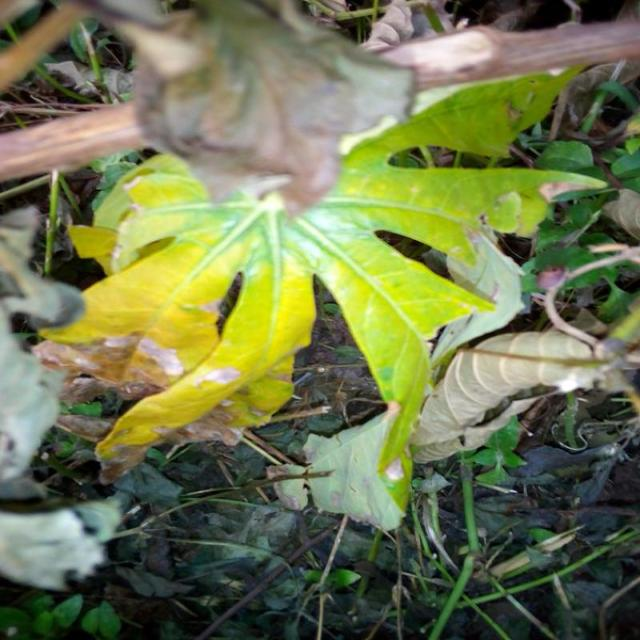cassava leaf: (36, 60, 608, 527)
